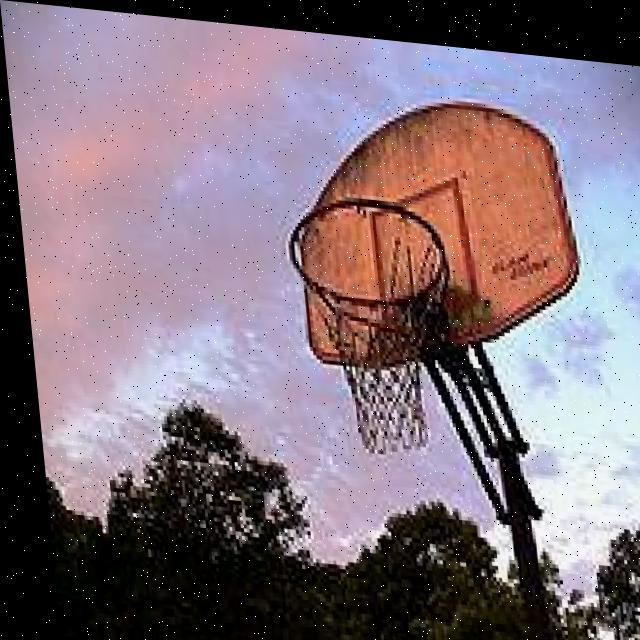hoop: (283, 190, 468, 464)
